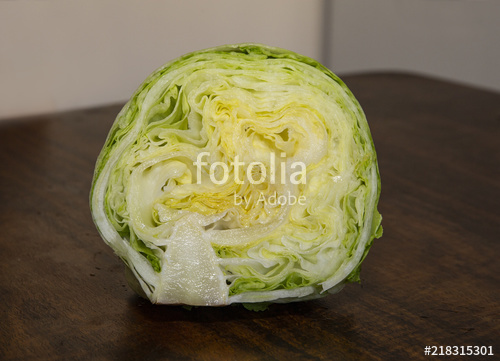chopped lettuce: (88, 51, 395, 306)
